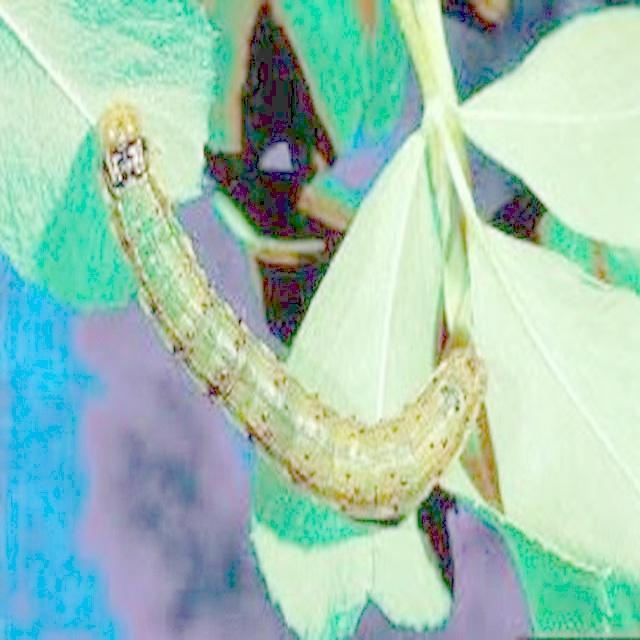gusano_cogollero: (91, 94, 486, 524)
